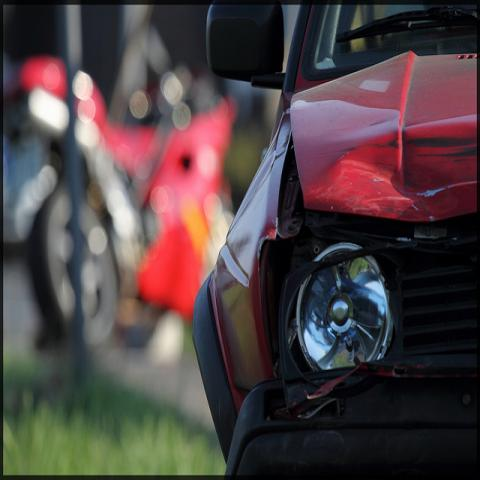car: (189, 2, 479, 476)
motorcycle: (21, 54, 238, 351)
